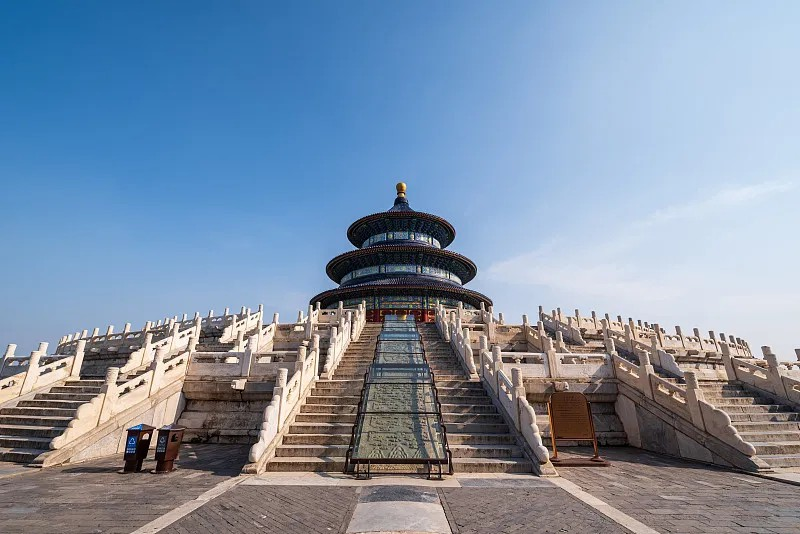Heaven: (308, 181, 493, 324)
